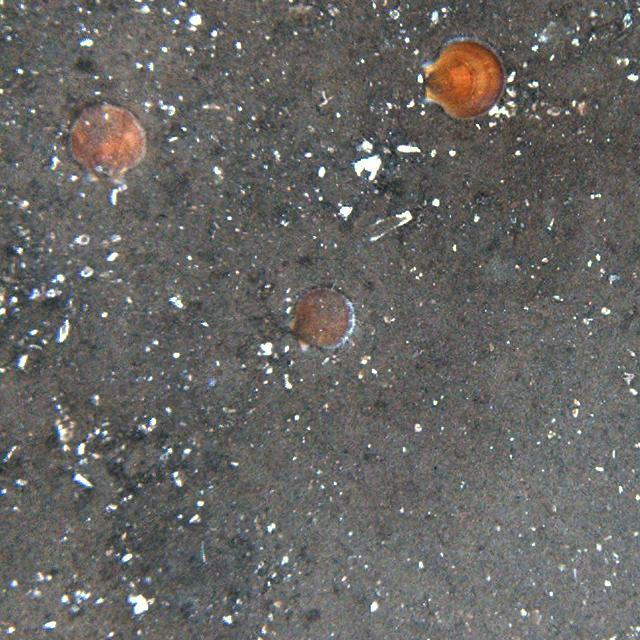scallop: (422, 38, 506, 124), (65, 100, 146, 188), (291, 280, 358, 351)
